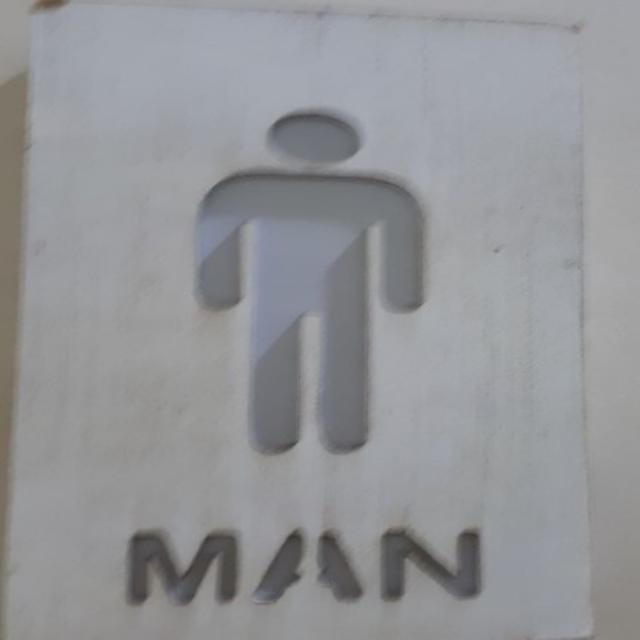wc nam: (6, 6, 592, 638)
